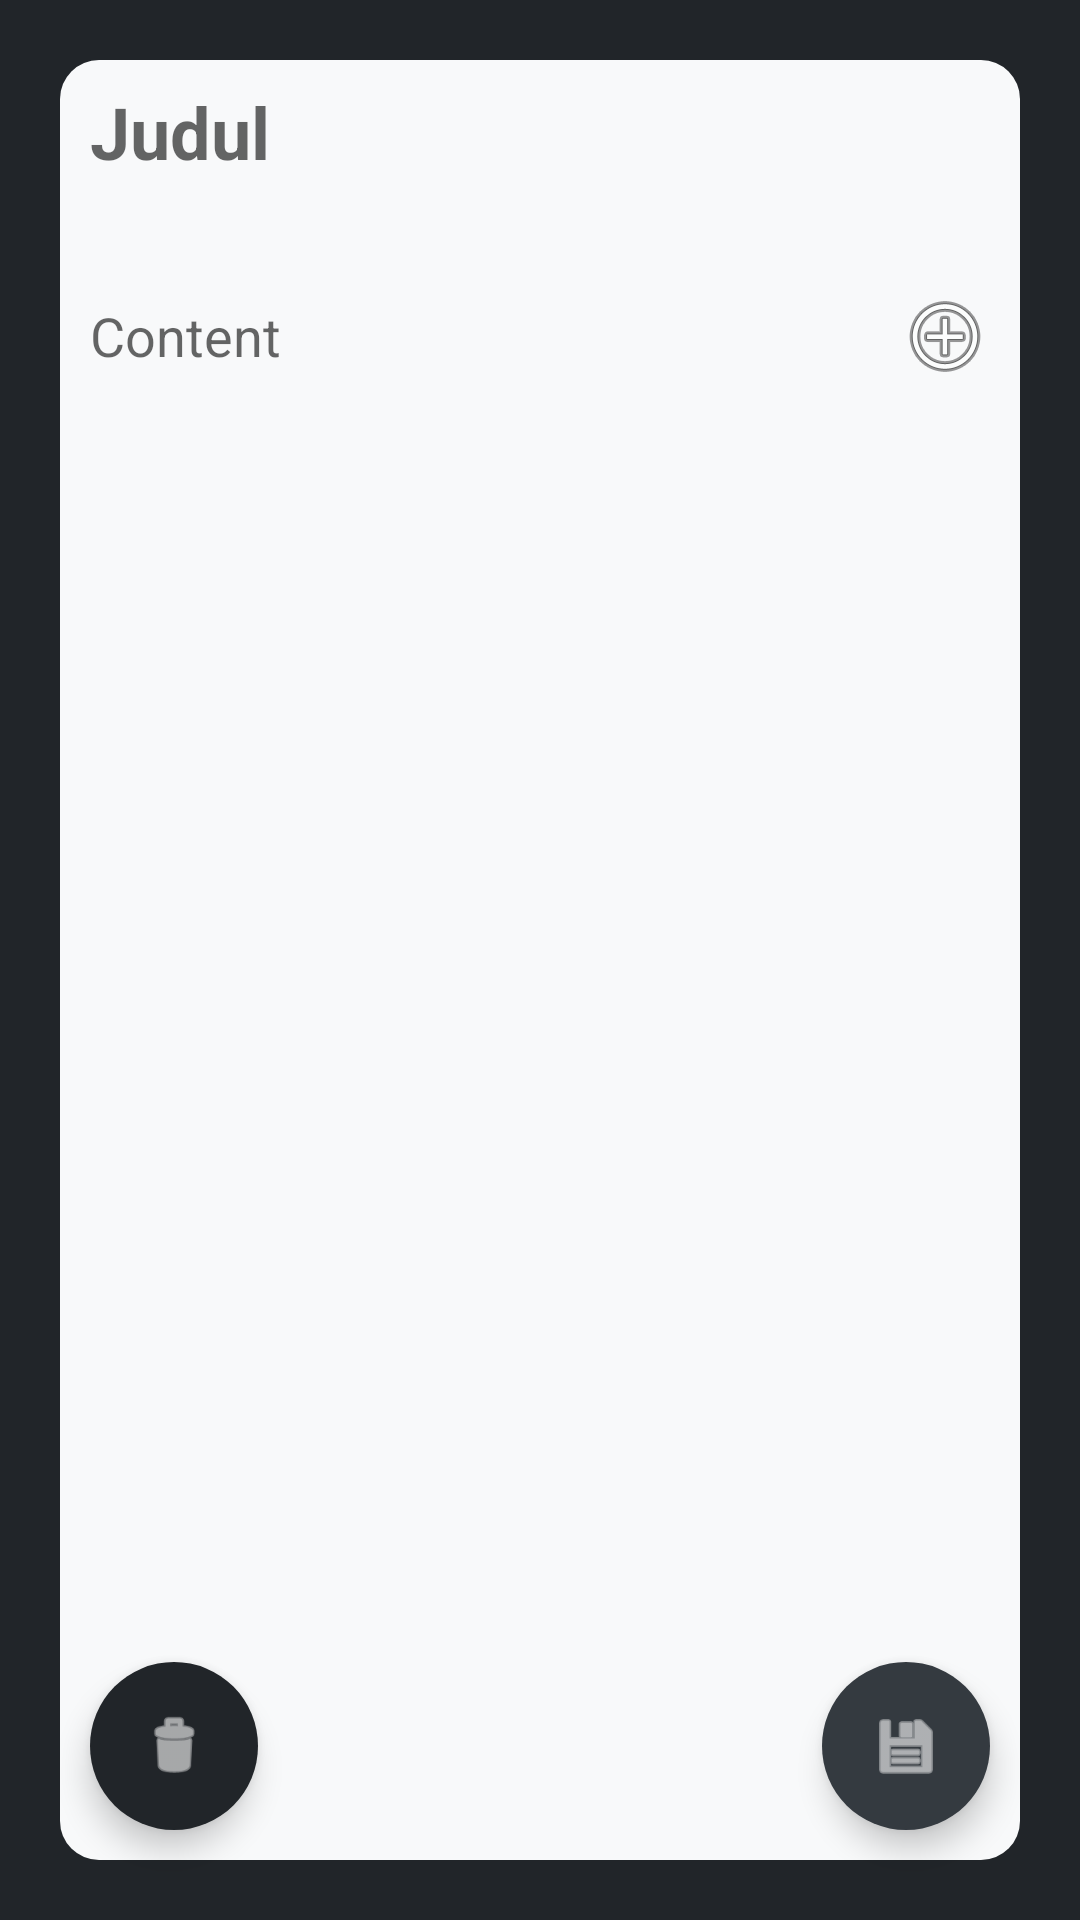

Icons on this 1080x1920 Android screen, each with its box as (x1, y1, x2, y2):
add: (909, 301, 981, 372)
delete: (90, 1662, 258, 1830)
save: (822, 1662, 990, 1830)
